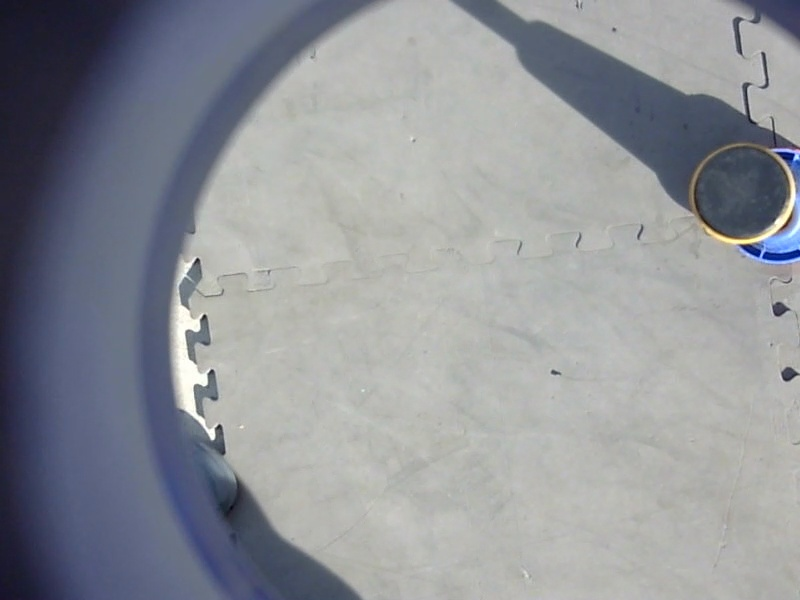tip: (684, 137, 799, 249)
